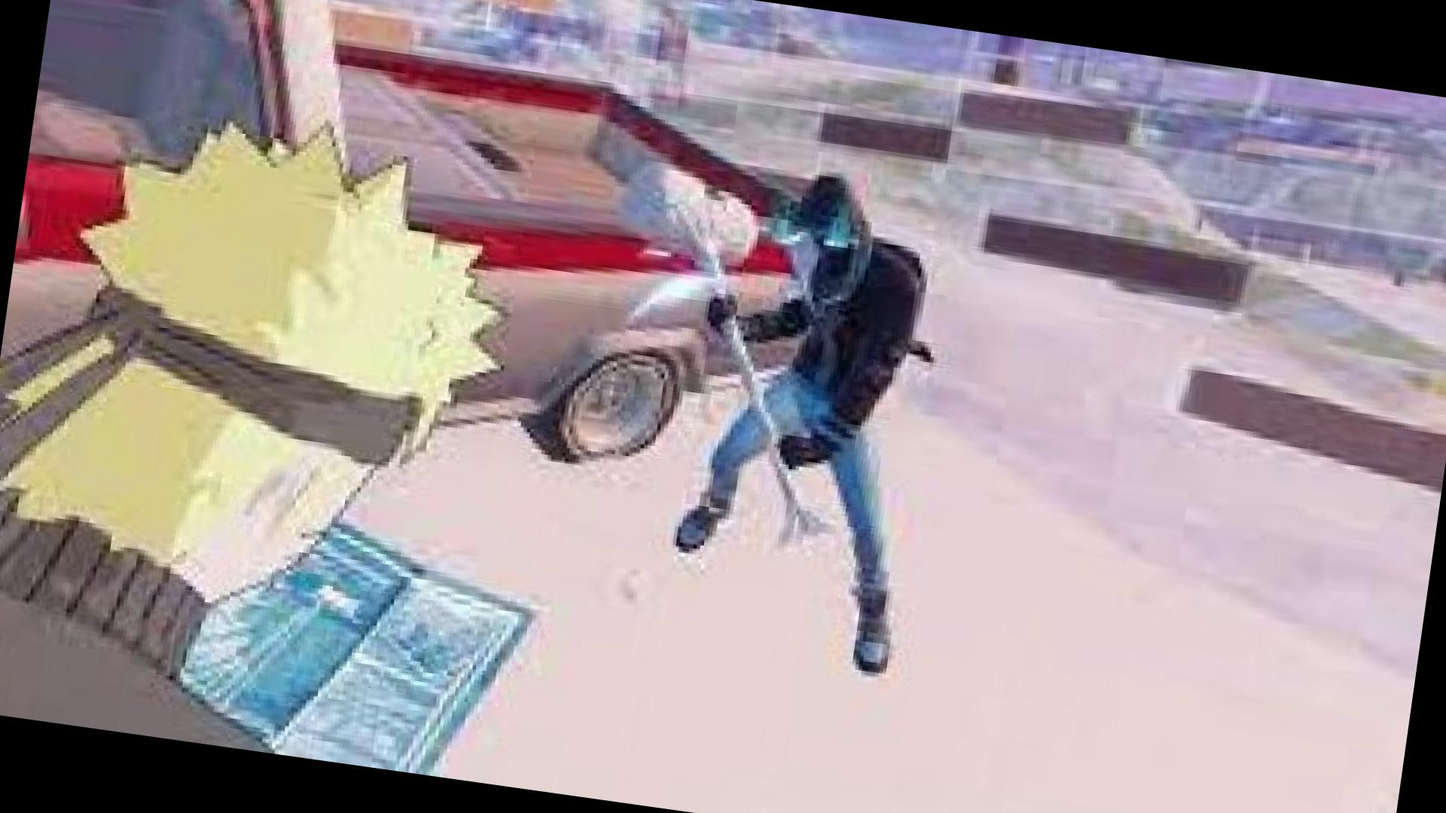player: (694, 164, 953, 684)
